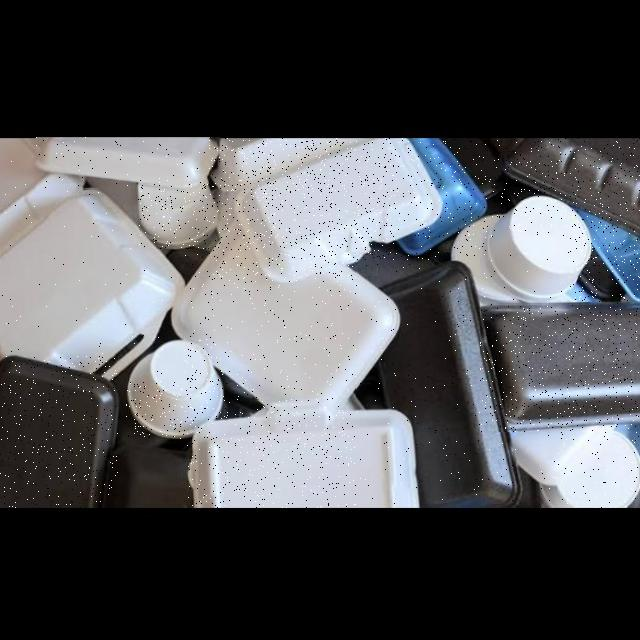styrofoam: (0, 138, 184, 381), (172, 220, 400, 407), (356, 262, 521, 508), (209, 138, 440, 283), (188, 401, 420, 508), (480, 303, 639, 432), (0, 356, 119, 508), (485, 138, 640, 238), (487, 195, 591, 304), (396, 138, 488, 257), (125, 340, 224, 439), (36, 138, 220, 189), (539, 432, 640, 508), (570, 206, 640, 302), (140, 184, 217, 249)
